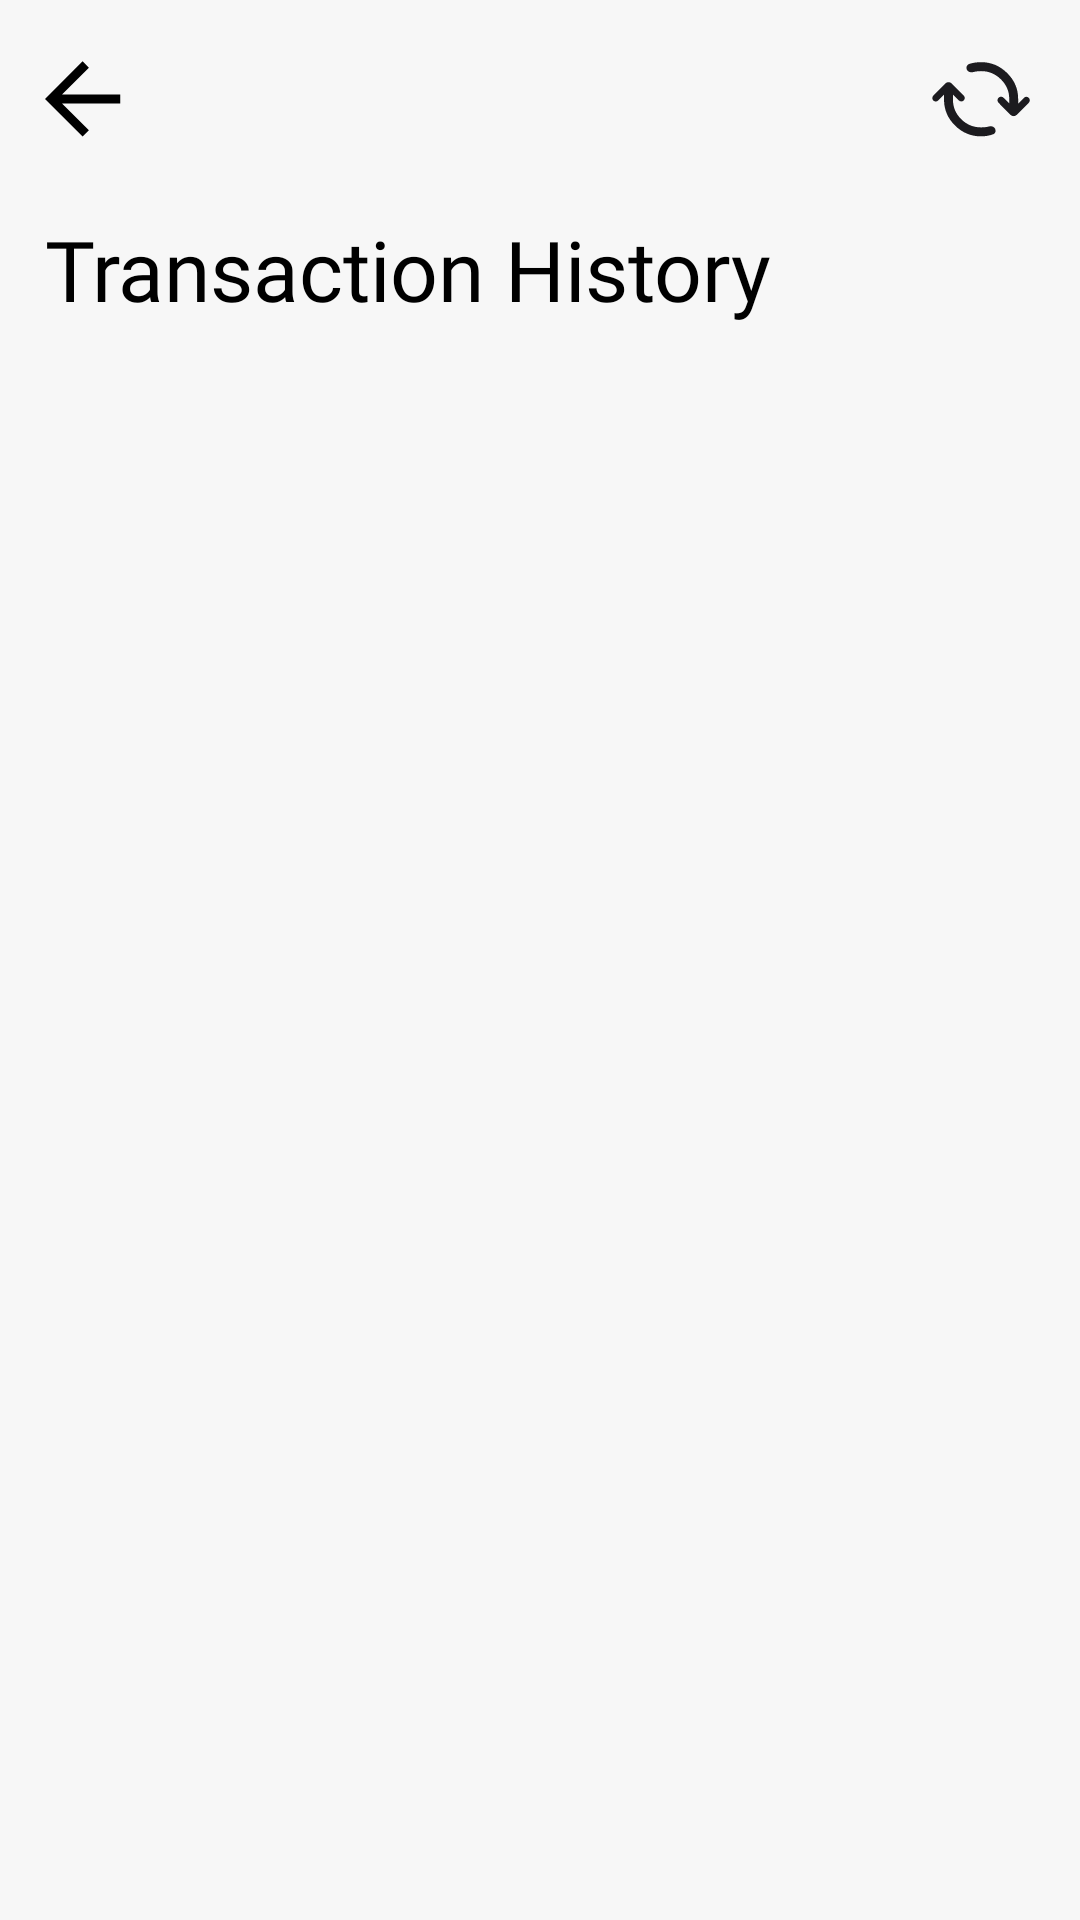

Point at icon controls on the screen. Image size 1080 × 1920, points as (x=x, y=y).
arrow back: (x=83, y=99)
cached: (x=981, y=99)
